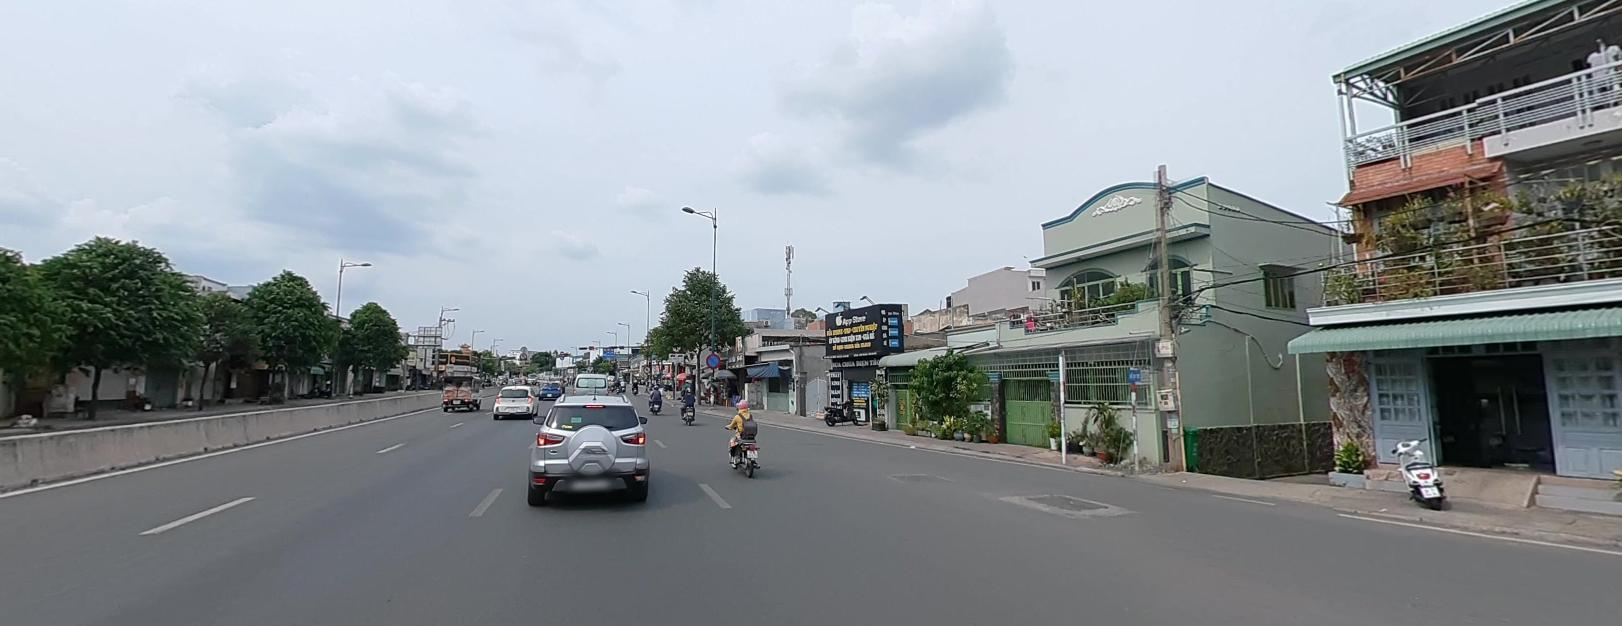Cam con lai: (643, 365, 650, 371), (519, 352, 525, 358)
Cam dung va do: (705, 352, 722, 369), (670, 338, 680, 350)
